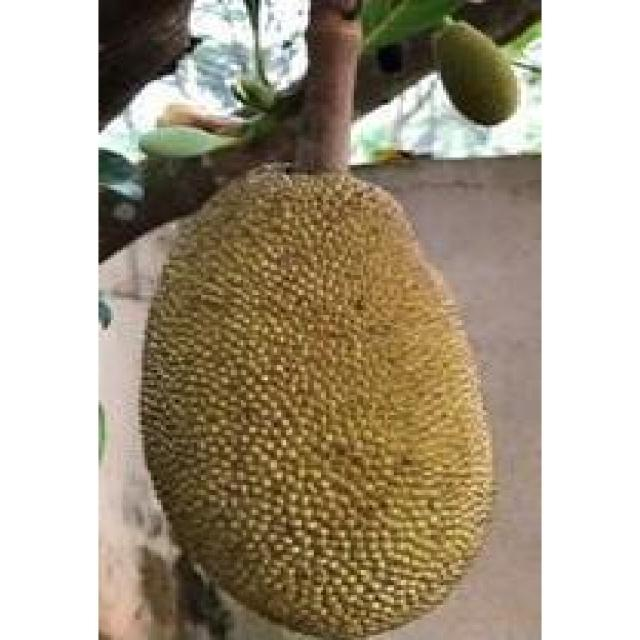Fruit: (120, 290, 520, 638)
